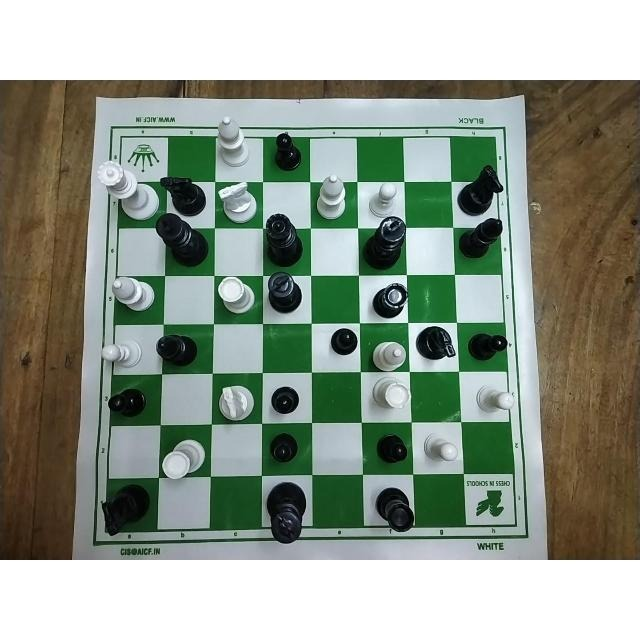black-bishop: (460, 217, 504, 258), (154, 332, 197, 367)
black-king: (155, 213, 209, 267), (265, 482, 305, 544), (365, 216, 405, 268), (266, 271, 303, 313)
black-knight: (100, 486, 151, 536), (457, 164, 504, 218), (158, 176, 206, 216), (414, 326, 455, 361)
black-pawn: (466, 331, 508, 363), (106, 387, 147, 419), (271, 132, 303, 173), (268, 383, 301, 415), (374, 433, 410, 461), (327, 326, 358, 358), (269, 431, 298, 464)
black-queen: (263, 213, 305, 267)
black-rook: (372, 487, 413, 532), (368, 281, 407, 318)
white-bishop: (216, 111, 250, 167), (106, 276, 154, 312), (316, 173, 346, 219), (369, 337, 407, 370)
white-knight: (216, 179, 257, 222), (213, 382, 254, 421)
white-pawn: (99, 336, 143, 368), (474, 384, 514, 415), (422, 431, 460, 462), (368, 182, 397, 218)
white-queen: (97, 159, 159, 219)
white-rook: (162, 436, 205, 479), (214, 277, 253, 313), (371, 375, 411, 409)
